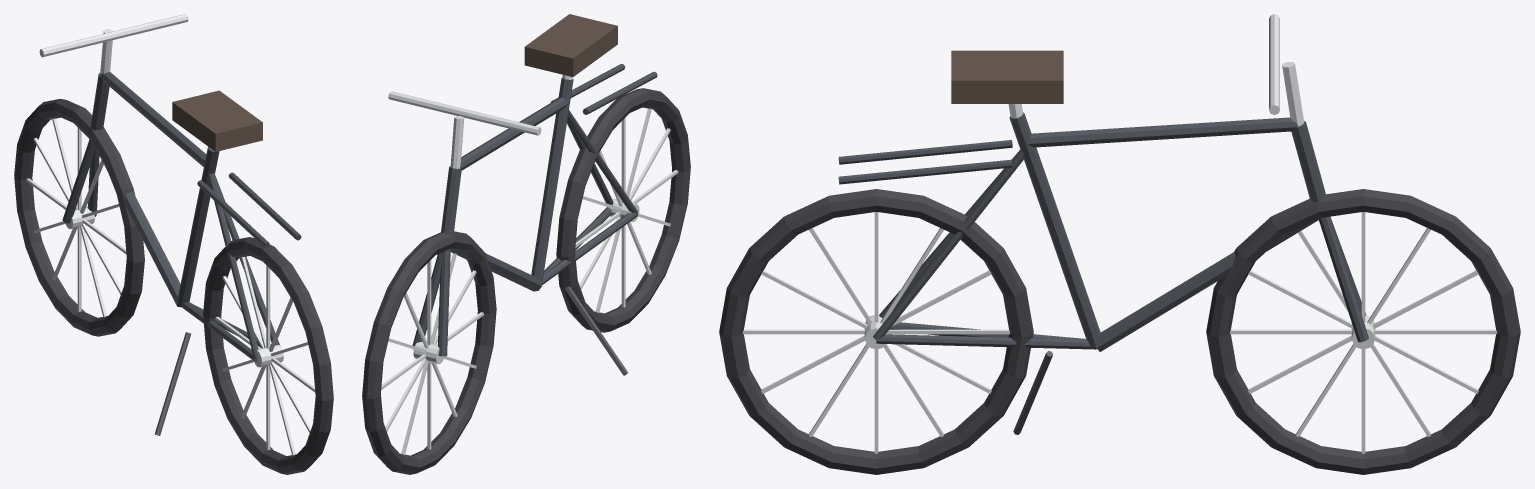
Rendered from Prop_Cycle_Black.glb.
3 views of the same model, side by side, from view 1: azimuth 30°, elevation 25°; view 2: azimuth 150°, elevation 25°; view 3: azimuth 270°, elevation 25° (orthographic). The views are drawn at different scales.
Parts seen in each view (by area): view 1: RearW_Tire, FrontW_Tire, RearW_Rim, Saddle, FrontW_Rim, Tube0, Tube2, Tube1, Bar, Tube7, Tube6, Tube9 (+7 smaller); view 2: FrontW_Tire, RearW_Tire, Saddle, FrontW_Rim, RearW_Rim, Tube0, Bar, Tube2, Tube9, Tube1, Tube5, Tube3 (+8 smaller); view 3: RearW_Tire, FrontW_Tire, RearW_Rim, FrontW_Rim, Saddle, Tube2, Tube0, Tube1, Tube6, Tube4, Tube8, Tube10 (+4 smaller).
Part boxes in pixels (x1,y1,x2,y2): RearW_Tire: (203, 237, 333, 474); FrontW_Tire: (14, 98, 144, 336); RearW_Rim: (215, 257, 315, 455); Saddle: (172, 90, 262, 151); FrontW_Rim: (26, 118, 126, 317); Tube0: (178, 146, 219, 306); Tube2: (100, 72, 206, 166); Tube1: (100, 156, 180, 307); Bar: (39, 14, 188, 57); Tube7: (208, 173, 258, 358); Tube6: (210, 173, 280, 345); Tube9: (62, 139, 95, 223); FrontW_Tire: (362, 231, 496, 474); RearW_Tire: (556, 88, 690, 332); Saddle: (524, 14, 617, 76); FrontW_Rim: (381, 253, 483, 454); RearW_Rim: (575, 108, 678, 312); Tube0: (531, 77, 573, 283); Bar: (388, 91, 541, 135); Tube2: (460, 97, 568, 170); Tube9: (438, 248, 450, 356); Tube1: (450, 248, 541, 291); Tube5: (542, 212, 638, 284); Tube3: (441, 166, 461, 234); RearW_Tire: (719, 189, 1033, 474); FrontW_Tire: (1206, 189, 1520, 474); RearW_Rim: (742, 212, 1010, 453); FrontW_Rim: (1229, 212, 1497, 453); Saddle: (951, 50, 1063, 103); Tube2: (1027, 117, 1297, 147); Tube0: (1009, 112, 1100, 348); Tube1: (1095, 218, 1320, 351); Tube6: (873, 150, 1024, 340); Tube4: (876, 334, 1096, 349); Tube8: (1319, 216, 1368, 342); Tube10: (838, 159, 1012, 184).
Size of the model in its own units: 0.46 by 0.978 by 1.71.
